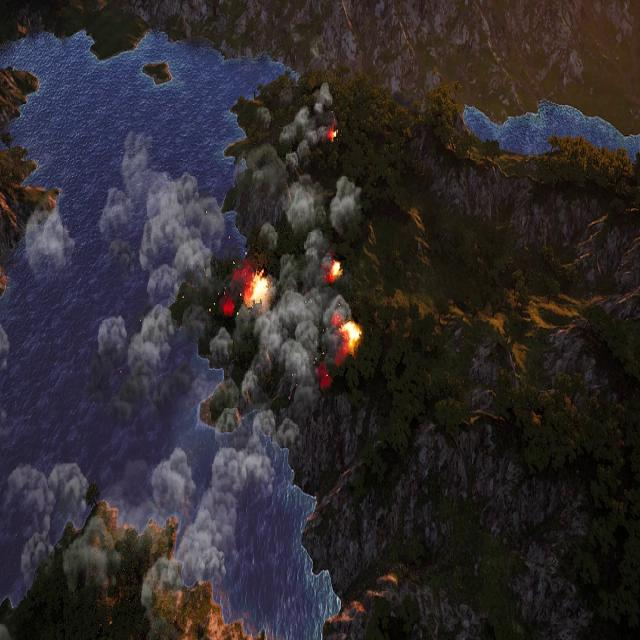fire: (337, 316, 362, 362), (244, 270, 270, 306), (323, 120, 340, 142), (326, 260, 341, 284)
smoke: (0, 422, 305, 624), (234, 76, 360, 420), (95, 132, 227, 384), (24, 202, 72, 270)
